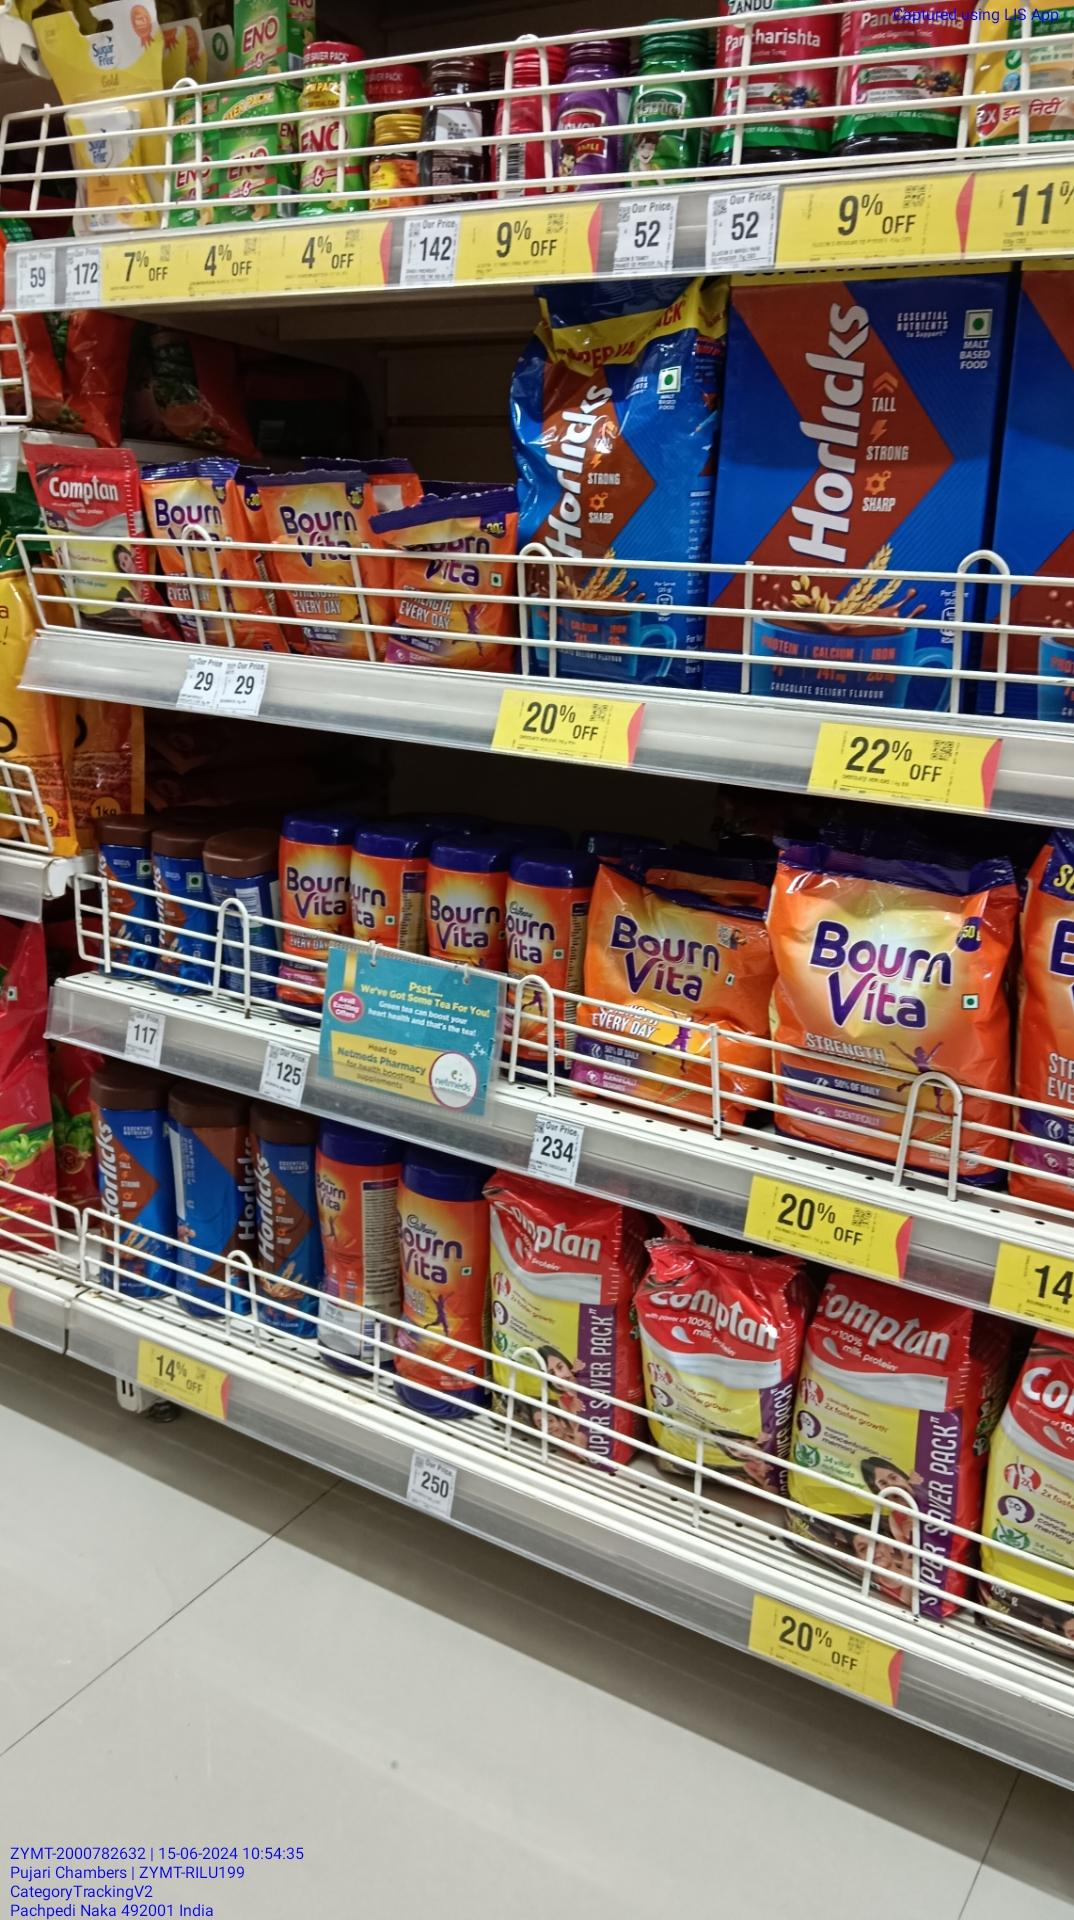BOURN_VITA_500_G_JAR: (583, 862, 753, 1124), (396, 1153, 483, 1424)
BOURN_VITA_750_G_POUCH: (774, 849, 1004, 1192)
COMPLAN_RC_POUCH_700_GMS_12: (797, 1316, 963, 1602), (641, 1242, 785, 1498), (491, 1172, 614, 1468)
HORLICK_CHOCOLATE_1_KG_PACK: (723, 268, 967, 719)
HORLICK_CHOCOLATE_200_G_JAR: (152, 833, 215, 993)
HORLICK_CHOCOLATE_500_G_JAR: (88, 1081, 164, 1296), (252, 1109, 313, 1337)
HORLICK_CHOCOLATE_750_G_POUCH: (530, 306, 699, 691)
